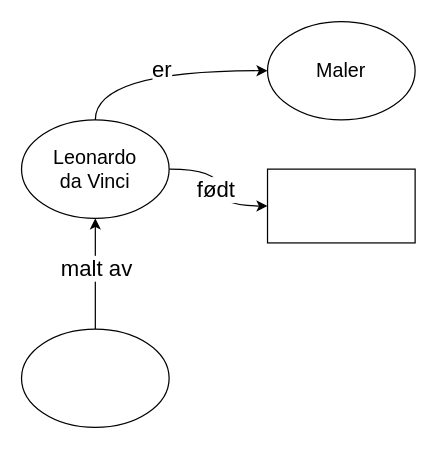
The diagram is 437 pixels wide and 449 high, and some of its shapes have lost their labels. Each missing label, with the centre of its shape:
15. april 1452: (x=340, y=205)
Mona Lisa: (x=94, y=377)
